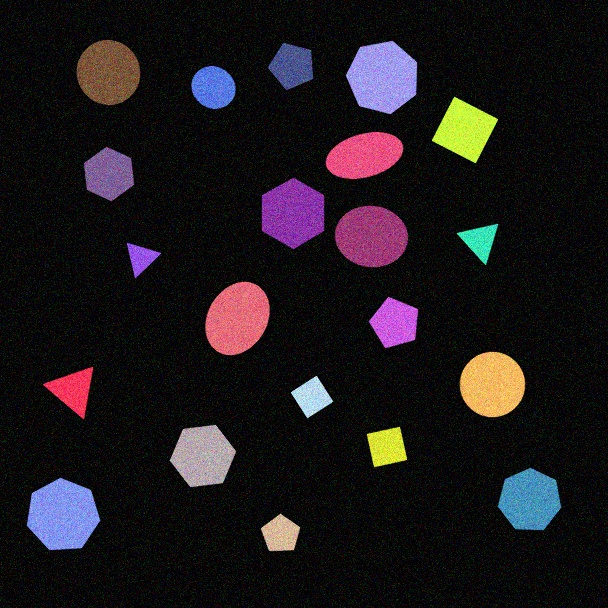Circulo: (459, 351, 526, 418), (76, 39, 141, 106), (191, 65, 236, 110)
Elipse: (205, 281, 270, 356), (334, 205, 409, 268), (325, 131, 404, 180)
Heptagono: (26, 477, 101, 551), (345, 40, 418, 115), (497, 467, 562, 531)
Hexagono: (261, 177, 325, 250), (169, 424, 237, 488), (83, 146, 135, 202)
Pentagono: (368, 296, 419, 349), (267, 42, 314, 91), (260, 513, 301, 552)
Quadrado: (431, 96, 499, 164), (290, 375, 334, 419), (366, 426, 408, 468)
Triangulo: (43, 366, 94, 420), (456, 223, 499, 266), (126, 242, 162, 279)
